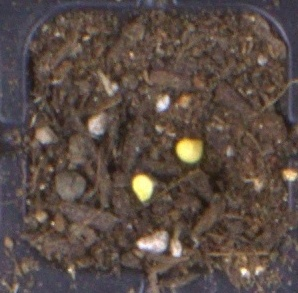chilli seed: (174, 138, 204, 164), (131, 174, 154, 202)
